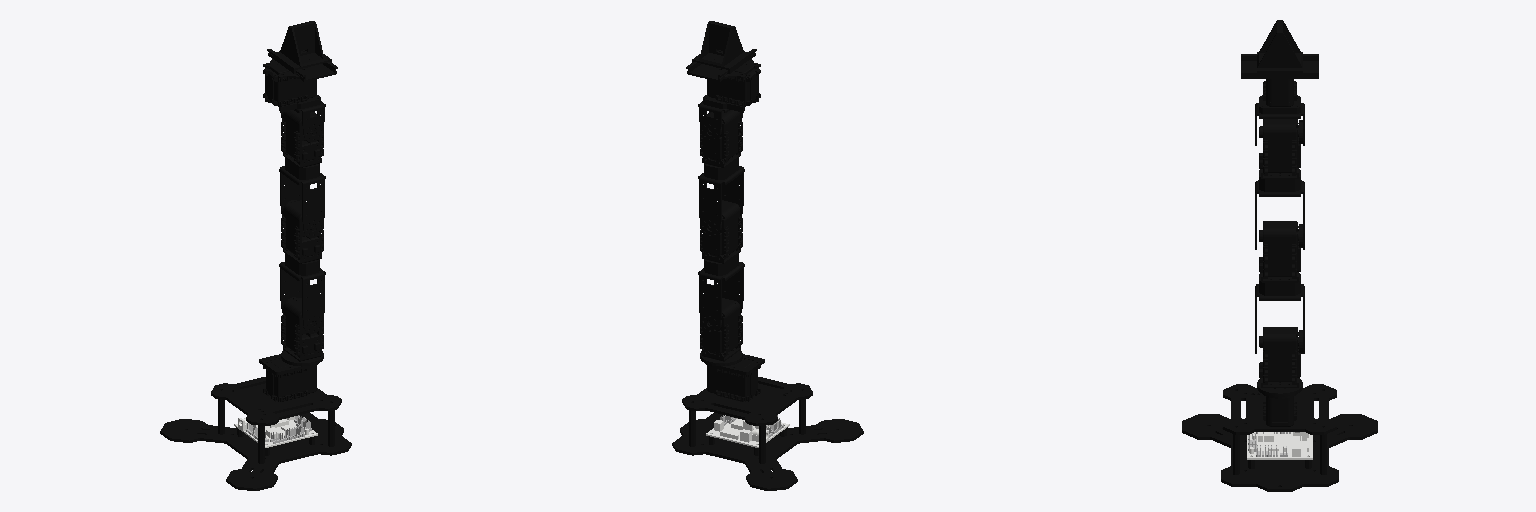
URDF robot description (Phantom_X):
<?xml version="1.0" encoding="utf-8"?>
<!-- =================================================================================== -->
<!-- |    This document was autogenerated by xacro from urdf/phantom_description.xacro | -->
<!-- |    EDITING THIS FILE BY HAND IS NOT RECOMMENDED                                 | -->
<!-- =================================================================================== -->
<robot name="Phantom_X">
  <link name="world"/>
  <!-- Base -->
  <link name="base_link">
    <visual>
      <origin rpy="0 0 0" xyz="0 0 0.000"/>
      <geometry>
        <mesh filename="package://phantomx_description/models/phantomx_pincher/meshes/visual/base.dae" scale="1.0 1.0 1.0"/>
      </geometry>
    </visual>
    <inertial>
      <mass value="0.352"/>
      <origin rpy="0 0 0" xyz="-0.027277 -0.000052 0.042715"/>
      <inertia ixx="0.662213" ixy="0.000438" ixz="-0.133928" iyy="0.758616" iyz="-0.000837" izz="0.717514"/>
    </inertial>
    <collision>
      <origin rpy="0 0 0" xyz="0 0 0"/>
      <geometry>
        <mesh filename="package://phantomx_description/models/phantomx_pincher/meshes/collision/simple_base.dae" scale="1.0 1.0 1.0"/>
      </geometry>
    </collision>
  </link>
  <joint name="base_joint" type="fixed">
    <parent link="world"/>
    <child link="base_link"/>
  </joint>
  <!-- Shoulder -->
  <link name="shoulder_link">
    <visual>
      <origin rpy="0 0 1.57079632679" xyz="0 0 0"/>
      <geometry>
        <mesh filename="package://phantomx_description/models/phantomx_pincher/meshes/visual/shoulder.dae" scale="1.0 1.0 1.0"/>
      </geometry>
    </visual>
    <inertial>
      <mass value="0.118"/>
      <origin rpy="0 0 0" xyz="0.001031 -0.000032 -0.013806"/>
      <inertia ixx="0.030893" ixy="0.000002" ixz="-0.000383" iyy="0.036432" iyz="-0.000026" izz="0.018984"/>
    </inertial>
    <collision>
      <origin rpy="0 0 1.57079632679" xyz="0 0 0"/>
      <geometry>
        <mesh filename="package://phantomx_description/models/phantomx_pincher/meshes/collision/simple_shoulder.dae" scale="1.0 1.0 1.0"/>
      </geometry>
    </collision>
  </link>
  <joint name="shoulder_joint" type="revolute">
    <axis xyz="0 0 1"/>
    <limit effort="1000.0" lower="-2.617993" upper="2.617993" velocity="0.5"/>
    <origin rpy="0 0 0" xyz="0 0 0.137"/>
    <parent link="base_link"/>
    <child link="shoulder_link"/>
  </joint>
  <!-- Lower Arm -->
  <link name="lower_arm_link">
    <visual>
      <origin rpy="0 0 0" xyz="0 0 0"/>
      <geometry>
        <mesh filename="package://phantomx_description/models/phantomx_pincher/meshes/visual/lower_arm.dae" scale="1.0 1.0 1.0"/>
      </geometry>
    </visual>
    <inertial>
      <mass value="0.162"/>
      <origin rpy="0 0 0" xyz="0.080988 -0.000023 -0.000748"/>
      <inertia ixx="0.031204" ixy="0.00002" ixz="0.001864" iyy="0.124182" iyz="-0.000003" izz="0.111578"/>
    </inertial>
    <collision>
      <origin rpy="0 0 0" xyz="0 0 0"/>
      <geometry>
        <mesh filename="package://phantomx_description/models/phantomx_pincher/meshes/collision/simple_bicep.dae" scale="1.0 1.0 1.0"/>
      </geometry>
    </collision>
  </link>
  <joint name="lower_arm_joint" type="revolute">
    <axis xyz="0 0 1"/>
    <limit effort="1000.0" lower="-2.617993" upper="2.617993" velocity="0.5"/>
    <origin rpy="1.57079632679 -1.57079632679 0" xyz="0 0 0"/>
    <parent link="shoulder_link"/>
    <child link="lower_arm_link"/>
  </joint>
  <!-- Upper Arm -->
  <link name="upper_arm_link">
    <visual>
      <origin rpy="0 0 0" xyz="0 0 0"/>
      <geometry>
        <mesh filename="package://phantomx_description/models/phantomx_pincher/meshes/visual/upper_arm.dae" scale="1.0 1.0 1.0"/>
      </geometry>
    </visual>
    <inertial>
      <mass value="0.162"/>
      <origin rpy="0 0 0" xyz="0.080988 -0.000023 -0.000748"/>
      <inertia ixx="0.031204" ixy="0.00002" ixz="0.001864" iyy="0.124182" iyz="-0.000003" izz="0.111578"/>
    </inertial>
    <collision>
      <origin rpy="0 0 0" xyz="0 0 0"/>
      <geometry>
        <mesh filename="package://phantomx_description/models/phantomx_pincher/meshes/collision/simple_bicep.dae" scale="1.0 1.0 1.0"/>
      </geometry>
    </collision>
  </link>
  <joint name="upper_arm_joint" type="revolute">
    <axis xyz="0 0 1"/>
    <limit effort="1000.0" lower="-2.617993" upper="2.617993" velocity="0.5"/>
    <origin rpy="0 0 0" xyz="0.105 0 0"/>
    <parent link="lower_arm_link"/>
    <child link="upper_arm_link"/>
  </joint>
  <!-- Gripper Body -->
  <link name="wrist_link">
    <visual>
      <origin rpy="0 0 0" xyz="0 0 0"/>
      <geometry>
        <mesh filename="package://phantomx_description/models/phantomx_pincher/meshes/visual/gripper_body.dae" scale="1.0 1.0 1.0"/>
      </geometry>
    </visual>
    <inertial>
      <mass value="0.160"/>
      <origin rpy="0 0 0" xyz="0.047054 0.009939 -0.000023"/>
      <inertia ixx="0.053897" ixy="-0.002353" ixz="0.000011" iyy="0.057629" iyz="0.000041" izz="0.068868"/>
    </inertial>
    <collision>
      <origin rpy="0 0 0" xyz="0 0 0"/>
      <geometry>
        <mesh filename="package://phantomx_description/models/phantomx_pincher/meshes/collision/simple_wrist.dae" scale="1.0 1.0 1.0"/>
      </geometry>
    </collision>
  </link>
  <joint name="wrist_joint" type="revolute">
    <axis xyz="0 0 1"/>
    <origin rpy="0 0 0" xyz="0.105 0 0"/>
    <limit effort="1000.0" lower="-2.617993" upper="2.617993" velocity="0.5"/>
    <parent link="upper_arm_link"/>
    <child link="wrist_link"/>
  </joint>
  <!-- Finger_1 -->
  <link name="finger_1_link">
    <visual>
      <origin rpy="0 0 0" xyz="0 0 0"/>
      <geometry>
        <mesh filename="package://phantomx_description/models/phantomx_pincher/meshes/visual/finger.dae" scale="1.0 1.0 1.0"/>
      </geometry>
    </visual>
    <inertial>
      <mass value="0.018"/>
      <origin rpy="0 0 0" xyz="0.010769 0 -0.007406"/>
      <inertia ixx="0.002959" ixy="0" ixz="-0.000707" iyy="0.00287" iyz="0" izz="0.004524"/>
    </inertial>
    <collision>
      <origin rpy="0 0 0" xyz="0 0 0"/>
      <geometry>
        <mesh filename="package://phantomx_description/models/phantomx_pincher/meshes/collision/simple_finger.dae" scale="1.0 1.0 1.0"/>
      </geometry>
    </collision>
  </link>
  <joint name="finger_1_joint" type="prismatic">
    <axis xyz="0 0 1"/>
    <origin rpy="0 0 0" xyz="0.071844 0 0"/>
    <limit effort="1000.0" lower="0" upper="0.015" velocity="0.5"/>
    <parent link="wrist_link"/>
    <child link="finger_1_link"/>
  </joint>
  <!-- Finger_2 -->
  <link name="finger_2_link">
    <visual>
      <origin rpy="0 0 0" xyz="0 0 0"/>
      <geometry>
        <mesh filename="package://phantomx_description/models/phantomx_pincher/meshes/visual/finger.dae" scale="1.0 1.0 1.0"/>
      </geometry>
    </visual>
    <inertial>
      <mass value="0.018"/>
      <origin rpy="0 0 0" xyz="0.010769 0 -0.007406"/>
      <inertia ixx="0.002959" ixy="0" ixz="-0.000707" iyy="0.00287" iyz="0" izz="0.004524"/>
    </inertial>
    <collision>
      <origin rpy="0 0 0" xyz="0 0 0"/>
      <geometry>
        <mesh filename="package://phantomx_description/models/phantomx_pincher/meshes/collision/simple_finger.dae" scale="1.0 1.0 1.0"/>
      </geometry>
    </collision>
  </link>
  <joint name="finger_2_joint" type="prismatic">
    <axis xyz="0 0 1"/>
    <origin rpy="3.14159265359 0 0" xyz="0.071844 0 0"/>
    <limit effort="1000.0" lower="0" upper="0.015" velocity="0.5"/>
    <parent link="wrist_link"/>
    <child link="finger_2_link"/>
    <mimic joint="finger_1_joint" multiplier="1" offset="0"/>
  </joint>
  <!-- Tool -->
  <link name="tool_link">
    <inertial>
      <mass value="0.0001"/>
      <origin xyz="0 0 0"/>
      <inertia ixx="0.00001" ixy="0.0" ixz="0.0" iyy="0.00001" iyz="0.0" izz="0.00001"/>
    </inertial>
  </link>
  <joint name="tool_joint" type="fixed">
    <axis xyz="0 0 1"/>
    <origin rpy="3.14159265359 -1.57079632679 0" xyz="0.110 0 0"/>
    <parent link="wrist_link"/>
    <child link="tool_link"/>
  </joint>
  <!-- Transmissions -->
  <transmission name="trans_shoulder_joint">
    <type>transmission_interface/SimpleTransmission</type>
    <joint name="shoulder_joint">
      <hardwareInterface>hardware_interface/EffortJointInterface</hardwareInterface>
    </joint>
    <actuator name="shoulder_joint_motor">
      <hardwareInterface>hardware_interface/EffortJointInterface</hardwareInterface>
      <mechanicalReduction>1</mechanicalReduction>
    </actuator>
  </transmission>
  <transmission name="trans_lower_arm_joint">
    <type>transmission_interface/SimpleTransmission</type>
    <joint name="lower_arm_joint">
      <hardwareInterface>hardware_interface/EffortJointInterface</hardwareInterface>
    </joint>
    <actuator name="lower_arm_joint_motor">
      <hardwareInterface>hardware_interface/EffortJointInterface</hardwareInterface>
      <mechanicalReduction>1</mechanicalReduction>
    </actuator>
  </transmission>
  <transmission name="trans_upper_arm_joint">
    <type>transmission_interface/SimpleTransmission</type>
    <joint name="upper_arm_joint">
      <hardwareInterface>hardware_interface/EffortJointInterface</hardwareInterface>
    </joint>
    <actuator name="upper_arm_joint_motor">
      <hardwareInterface>hardware_interface/EffortJointInterface</hardwareInterface>
      <mechanicalReduction>1</mechanicalReduction>
    </actuator>
  </transmission>
  <transmission name="trans_wrist_joint">
    <type>transmission_interface/SimpleTransmission</type>
    <joint name="wrist_joint">
      <hardwareInterface>hardware_interface/EffortJointInterface</hardwareInterface>
    </joint>
    <actuator name="wrist_joint_motor">
      <hardwareInterface>hardware_interface/EffortJointInterface</hardwareInterface>
      <mechanicalReduction>1</mechanicalReduction>
    </actuator>
  </transmission>
  <transmission name="trans_finger_1_joint">
    <type>transmission_interface/SimpleTransmission</type>
    <joint name="finger_1_joint">
      <hardwareInterface>hardware_interface/EffortJointInterface</hardwareInterface>
    </joint>
    <actuator name="finger_1_joint_motor">
      <hardwareInterface>hardware_interface/EffortJointInterface</hardwareInterface>
      <mechanicalReduction>1</mechanicalReduction>
    </actuator>
  </transmission>
  <transmission name="trans_finger_2_joint">
    <type>transmission_interface/SimpleTransmission</type>
    <joint name="finger_2_joint">
      <hardwareInterface>hardware_interface/EffortJointInterface</hardwareInterface>
    </joint>
    <actuator name="finger_2_joint_motor">
      <hardwareInterface>hardware_interface/EffortJointInterface</hardwareInterface>
      <mechanicalReduction>1</mechanicalReduction>
    </actuator>
  </transmission>
  <!-- Gazebo Plugins -->
  <gazebo>
    <plugin filename="libgazebo_ros_control.so" name="gazebo_ros_control"/>
  </gazebo>
  <gazebo>
    <plugin filename="libgazebo_ros_joint_state_publisher.so" name="joint_state_publisher">
      <jointName>shoulder_joint, lower_arm_joint, upper_arm_joint, wrist_joint, finger_1_joint, finger_2_joint</jointName>
    </plugin>
  </gazebo>
  <gazebo>
    <plugin filename="libgazebo_grasp_fix.so" name="gazebo_grasp_fix">
      <arm>
        <arm_name>Phantom_X</arm_name>
        <palm_link> wrist_link  </palm_link>
        <gripper_link> finger_1_link </gripper_link>
        <gripper_link> finger_2_link </gripper_link>
      </arm>
      <forces_angle_tolerance>100</forces_angle_tolerance>
      <update_rate>100</update_rate>
      <grip_count_threshold>4</grip_count_threshold>
      <max_grip_count>8</max_grip_count>
      <release_tolerance>0.001</release_tolerance>
      <disable_collisions_on_attach>false</disable_collisions_on_attach>
      <contact_topic>__default_topic__</contact_topic>
    </plugin>
  </gazebo>
</robot>

--- What the picture shows (computed from the rendered views, not written in the file) ---
3 views of the same robot in one strip: view 1: azimuth 30°, elevation 25°; view 2: azimuth 150°, elevation 25°; view 3: azimuth 270°, elevation 25° (orthographic).
Model Phantom_X with 9 links and 8 joints (4 revolute, 2 prismatic, 2 fixed), rooted at world, posed all joints at 0.
Links seen in each view (by area): view 1: base_link, lower_arm_link, upper_arm_link, wrist_link, shoulder_link, finger_1_link; view 2: base_link, lower_arm_link, upper_arm_link, wrist_link, shoulder_link, finger_2_link; view 3: base_link, lower_arm_link, upper_arm_link, wrist_link, shoulder_link, finger_1_link, finger_2_link.
Link boxes in pixels (x1,y1,x2,y2): base_link: [160, 350, 351, 490]; lower_arm_link: [279, 200, 325, 333]; upper_arm_link: [279, 110, 325, 237]; wrist_link: [263, 49, 337, 141]; shoulder_link: [281, 297, 323, 361]; finger_1_link: [284, 22, 331, 73]; base_link: [672, 350, 863, 490]; lower_arm_link: [698, 200, 744, 333]; upper_arm_link: [698, 110, 744, 237]; wrist_link: [686, 49, 760, 141]; shoulder_link: [700, 298, 742, 361]; finger_2_link: [692, 22, 739, 73]; base_link: [1182, 378, 1377, 491]; lower_arm_link: [1255, 221, 1304, 353]; upper_arm_link: [1255, 119, 1304, 249]; wrist_link: [1241, 54, 1318, 145]; shoulder_link: [1259, 327, 1302, 387]; finger_1_link: [1257, 20, 1279, 76]; finger_2_link: [1280, 20, 1302, 76].
Bounding box of the posed robot: 0.161 × 0.1792 × 0.4558 m (x, y, z).
7 mesh visuals loaded from 6 distinct referenced files (6 Collada DAE).